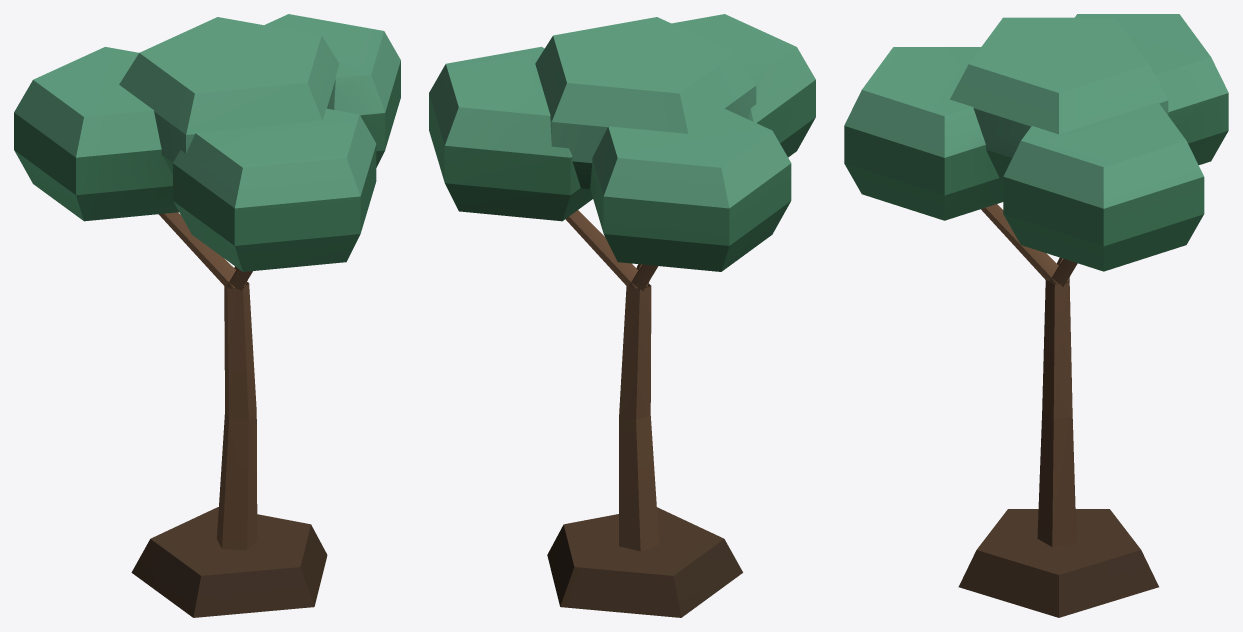
File: custom-muda-etapa-3.glb
The picture shows the model from 3 angles, left to right: view 1: azimuth 30°, elevation 25°; view 2: azimuth 150°, elevation 25°; view 3: azimuth 270°, elevation 25°; orthographic projection.
Visible parts, largest first — view 1: muda-etapa-3; view 2: muda-etapa-3; view 3: muda-etapa-3.
Boxes of the visible parts, x1,y1,x2,y2 form: muda-etapa-3: [14, 14, 400, 617]; muda-etapa-3: [429, 14, 815, 617]; muda-etapa-3: [844, 14, 1228, 617].
Bounding box in the file's own units: 1.66 × 2.4 × 1.6.
